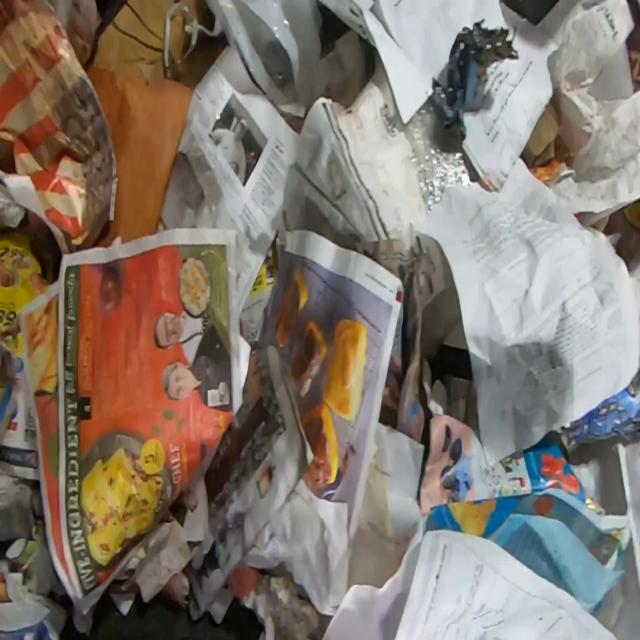cardboard: (84, 57, 193, 247), (88, 0, 229, 90), (0, 474, 69, 640), (0, 220, 52, 359), (520, 89, 562, 170)
soft_plastic: (185, 0, 324, 108), (386, 92, 478, 217), (431, 17, 520, 125)
